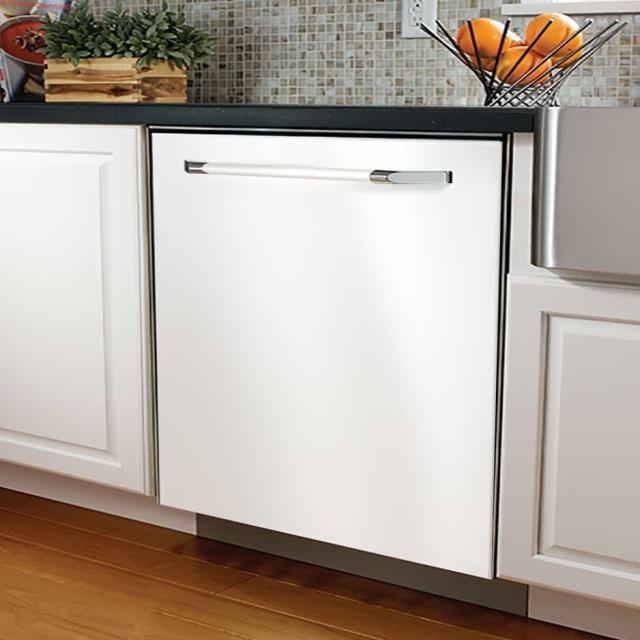dishwasher: (131, 101, 544, 616)
